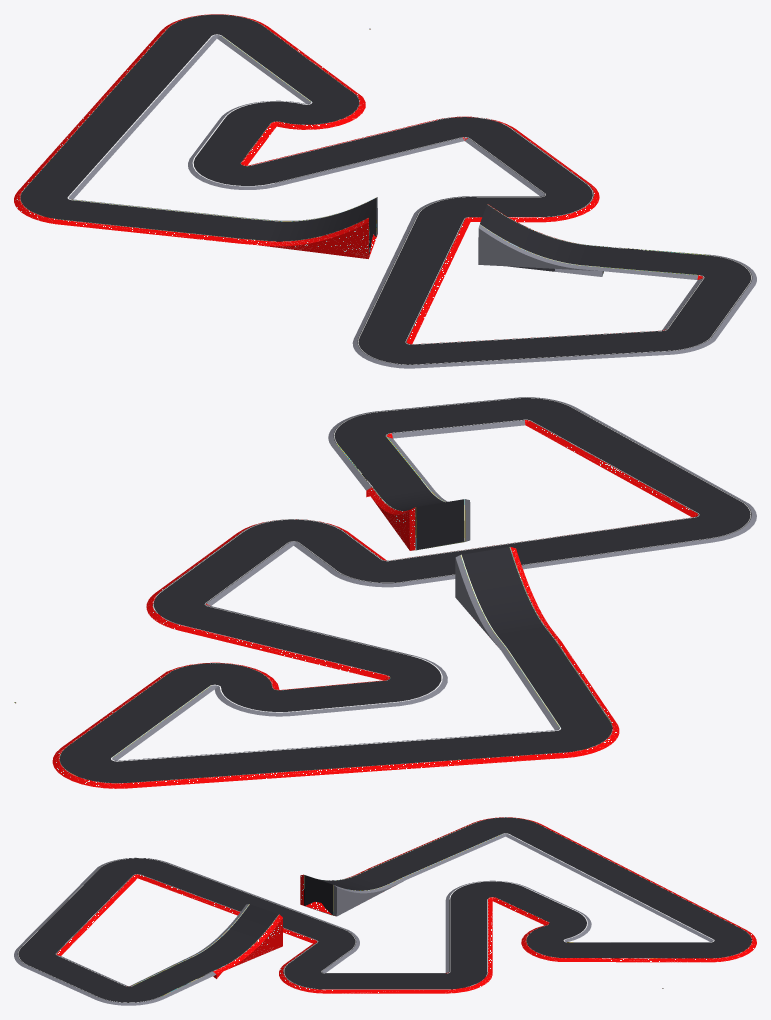
Rendered from map1.glb.
The picture shows the model from 3 angles, top to bottom: view 1: azimuth 30°, elevation 25°; view 2: azimuth 150°, elevation 25°; view 3: azimuth 270°, elevation 25°; orthographic projection. The views are drawn at different scales.
Visible parts, largest first — view 1: Map!; view 2: Map!; view 3: Map!.
Boxes of the visible parts, <box> form: Map!: <box>14,14,756,368</box>; Map!: <box>14,397,756,788</box>; Map!: <box>14,817,756,1005</box>.
Bounding box in the file's own units: 542 × 43.1 × 900.
Materials: 1 (1 with a texture image).
